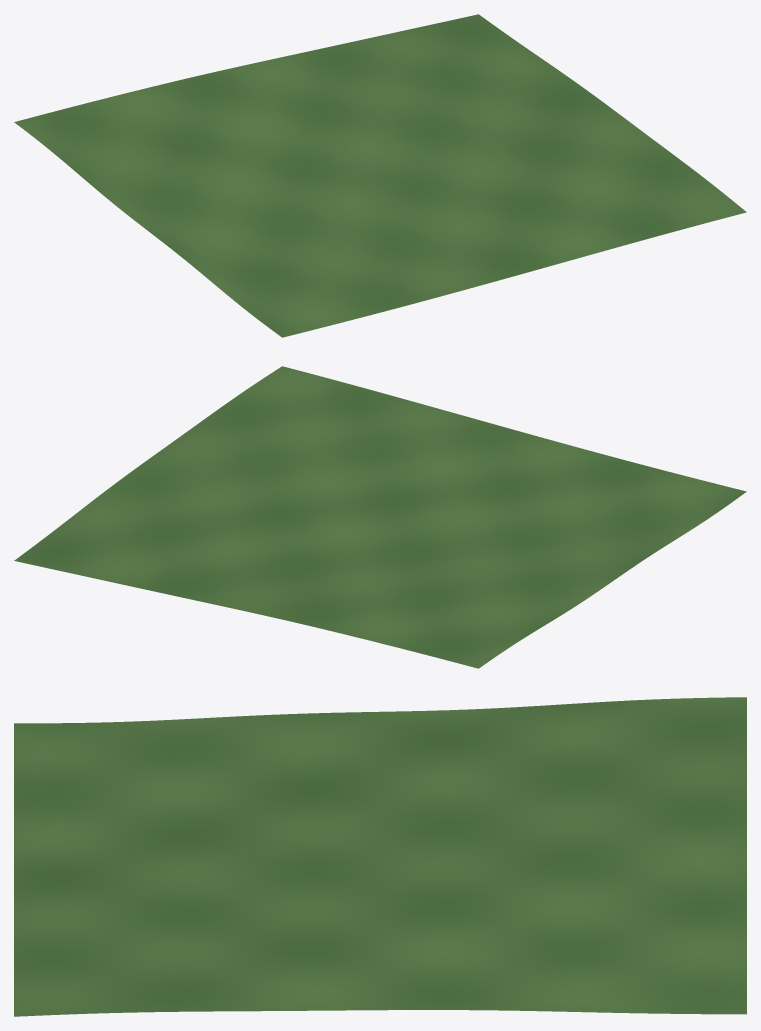
Rendered from chunk_8_9.glb.
3 views of the same model, one above another, from view 1: azimuth 30°, elevation 25°; view 2: azimuth 150°, elevation 25°; view 3: azimuth 270°, elevation 25° (orthographic). The views are drawn at different scales.
Size of the model in its own units: 512 by 21.93 by 512.
